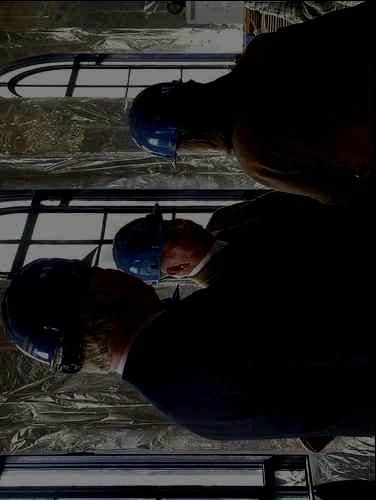helmet: (3, 245, 159, 375), (128, 78, 229, 163), (112, 203, 204, 283)
